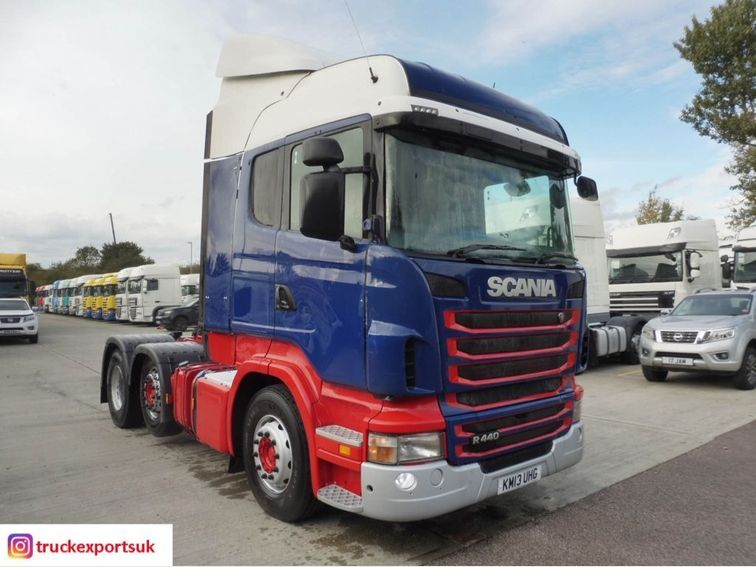Car: (637, 290, 755, 389), (0, 298, 39, 343)
Semi: (99, 35, 598, 523)
